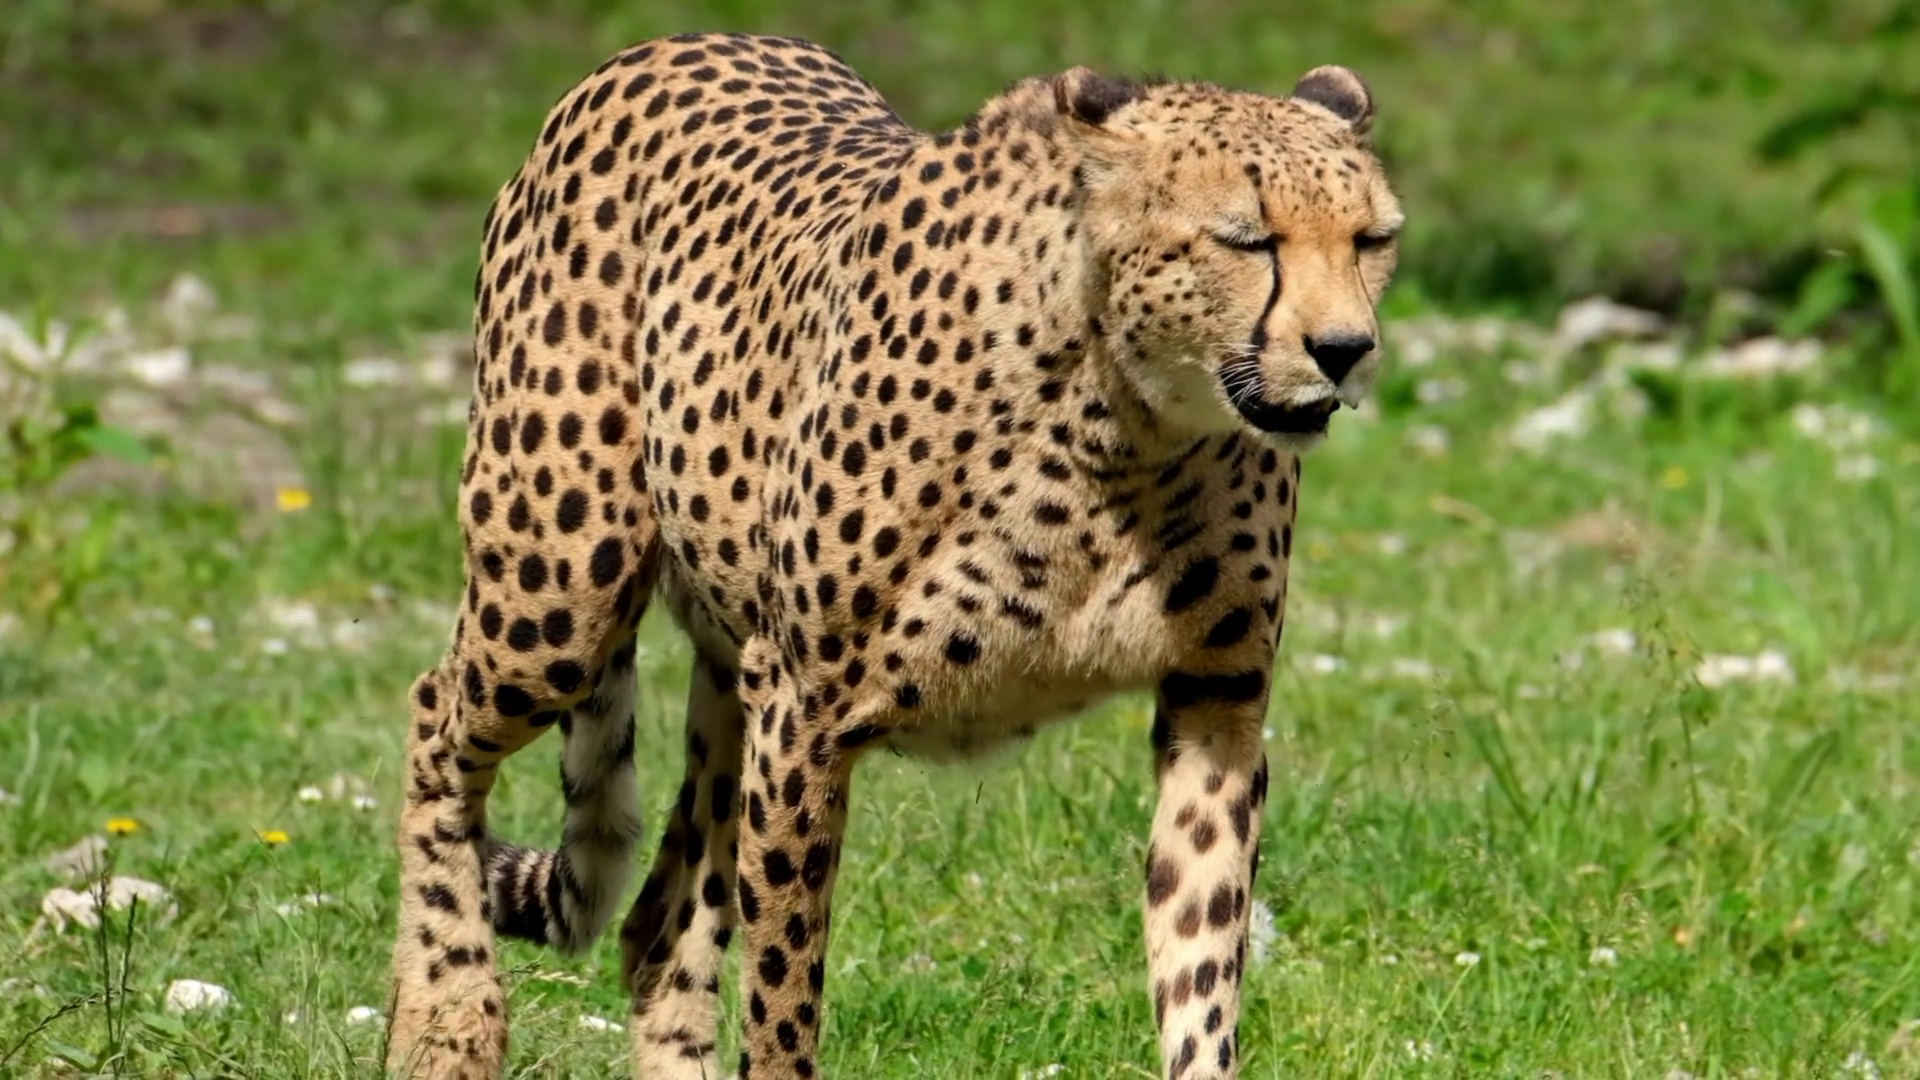Cheetah: (381, 26, 1412, 1080)
